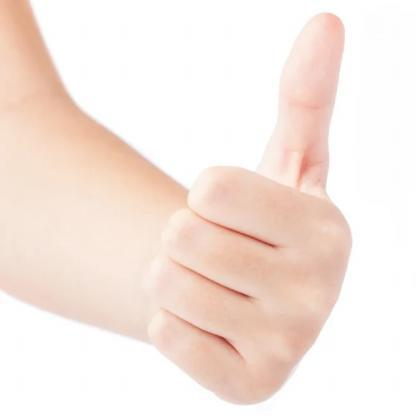thumb_up: (138, 9, 354, 408)
